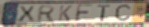C: (114, 4, 132, 22)
F: (74, 3, 96, 23)
K: (57, 4, 74, 22)
R: (35, 5, 57, 23)
T: (97, 4, 112, 22)
X: (17, 5, 37, 23)
